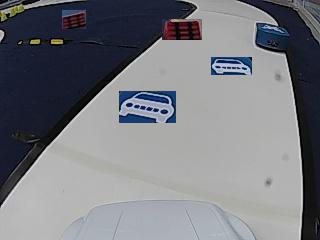prop: (255, 22, 289, 52)
